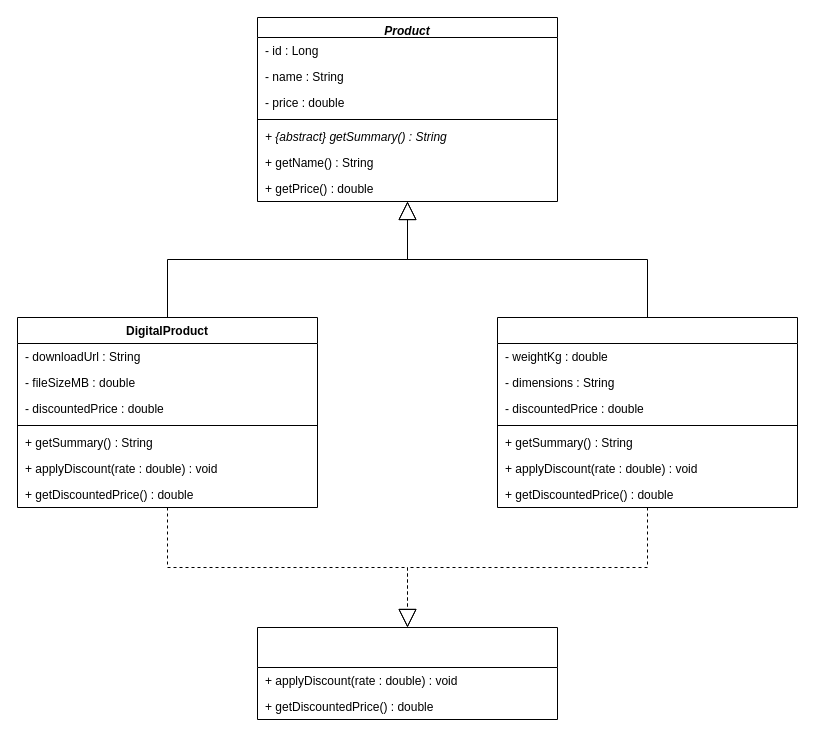
Image size: 815x740. Some labels were removed from this diagram. The box of each missing label's shape, as (x1, y1, x2, y2) in pixels:
PhysicalProduct: (496, 316, 798, 508)
«interface» Discountable: (256, 626, 558, 720)
